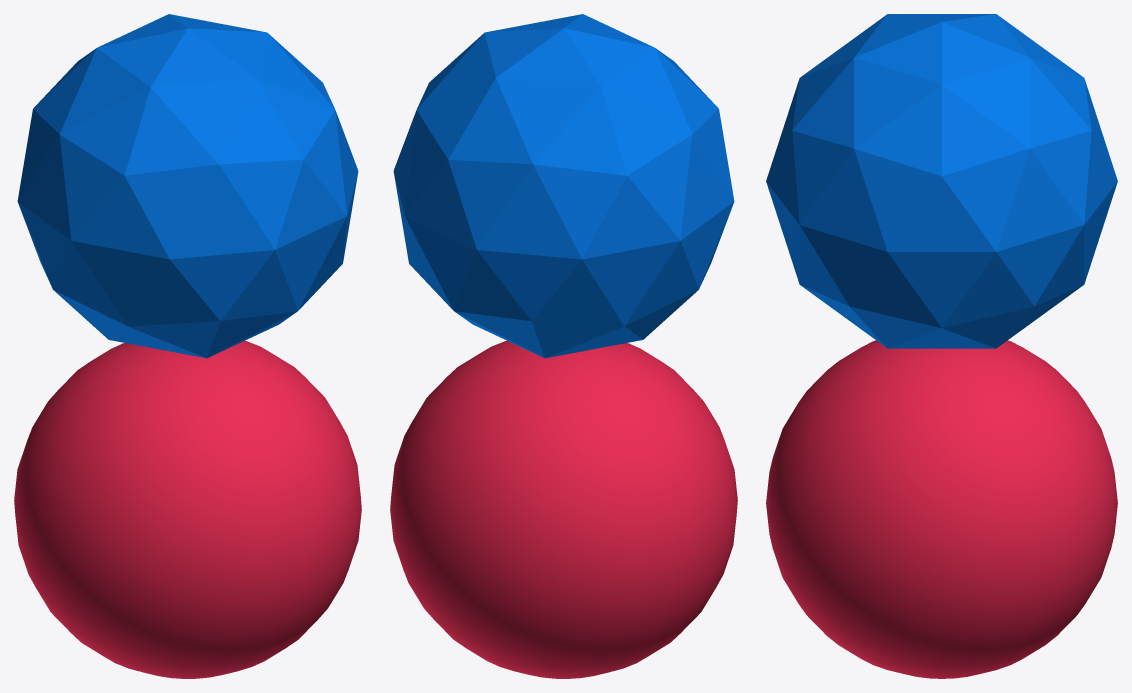
3 renders of one model, left to right at view 1: azimuth 30°, elevation 25°; view 2: azimuth 150°, elevation 25°; view 3: azimuth 270°, elevation 25°, orthographic.
Parts seen in each view (by area): view 1: Sphere, Icosphere; view 2: Sphere, Icosphere; view 3: Sphere, Icosphere.
Boxes of the visible parts, box(x1,y1,x2,y2) form: Sphere: box(14, 341, 361, 678); Icosphere: box(17, 14, 358, 358); Sphere: box(390, 341, 737, 678); Icosphere: box(393, 14, 734, 358); Sphere: box(766, 340, 1117, 678); Icosphere: box(766, 14, 1117, 348).
Size of the model in its own units: 2 by 4.02 by 2.
